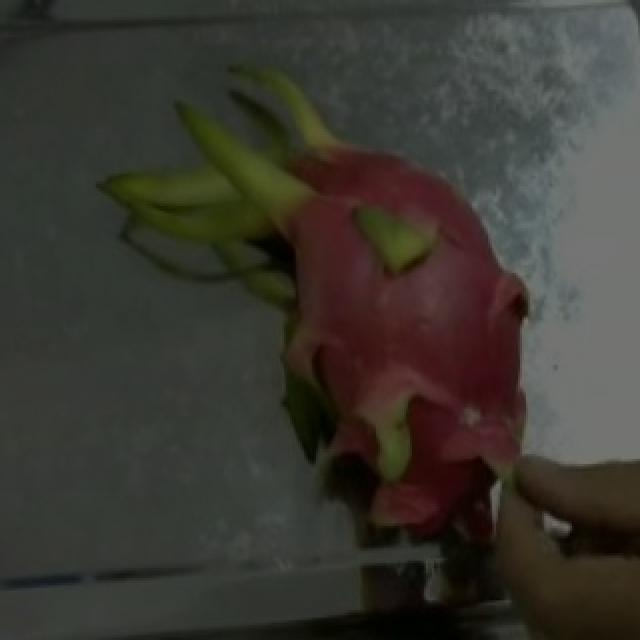fruit: (178, 137, 564, 590)
